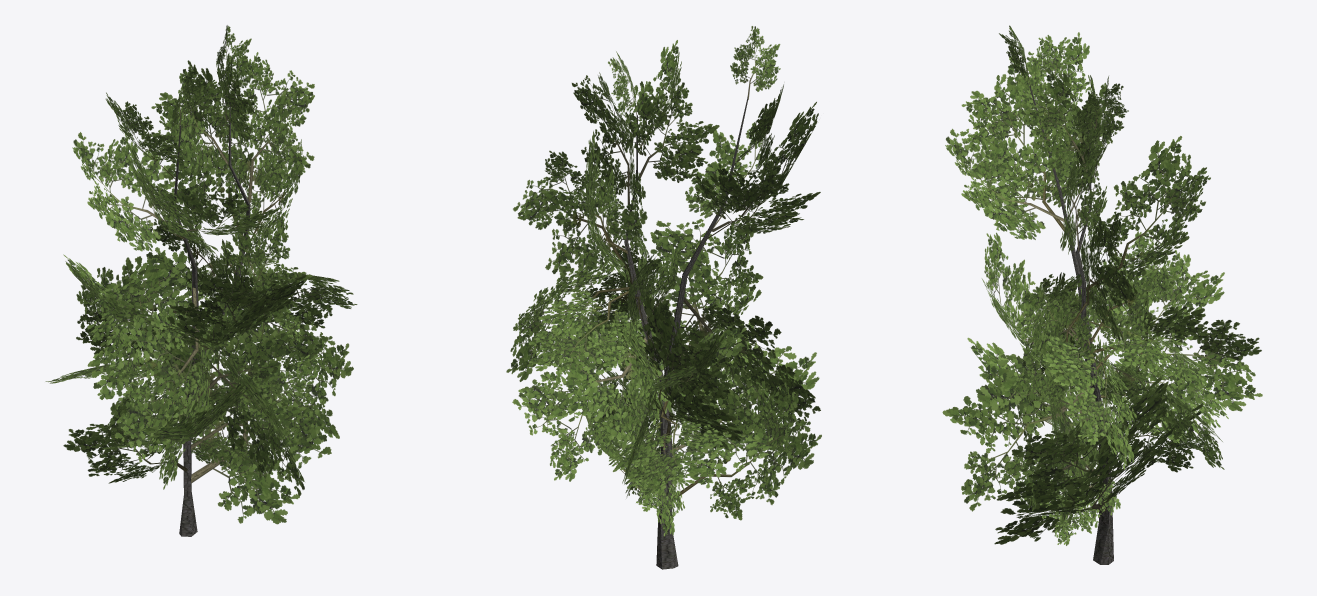
Rendered from Tree12.gltf.
The picture shows the model from 3 angles, left to right: view 1: azimuth 30°, elevation 25°; view 2: azimuth 150°, elevation 25°; view 3: azimuth 270°, elevation 25°; orthographic projection. The views are drawn at different scales.
Visible parts, largest first — view 1: Tree-03-4_11; view 2: Tree-03-4_11; view 3: Tree-03-4_11.
Boxes of the visible parts, x1,y1,x2,y2 form: Tree-03-4_11: [45, 25, 357, 536]; Tree-03-4_11: [506, 26, 821, 569]; Tree-03-4_11: [942, 25, 1262, 564].
Bounding box in the file's own units: 138 × 193 × 132.
6 materials, 6 textured.
